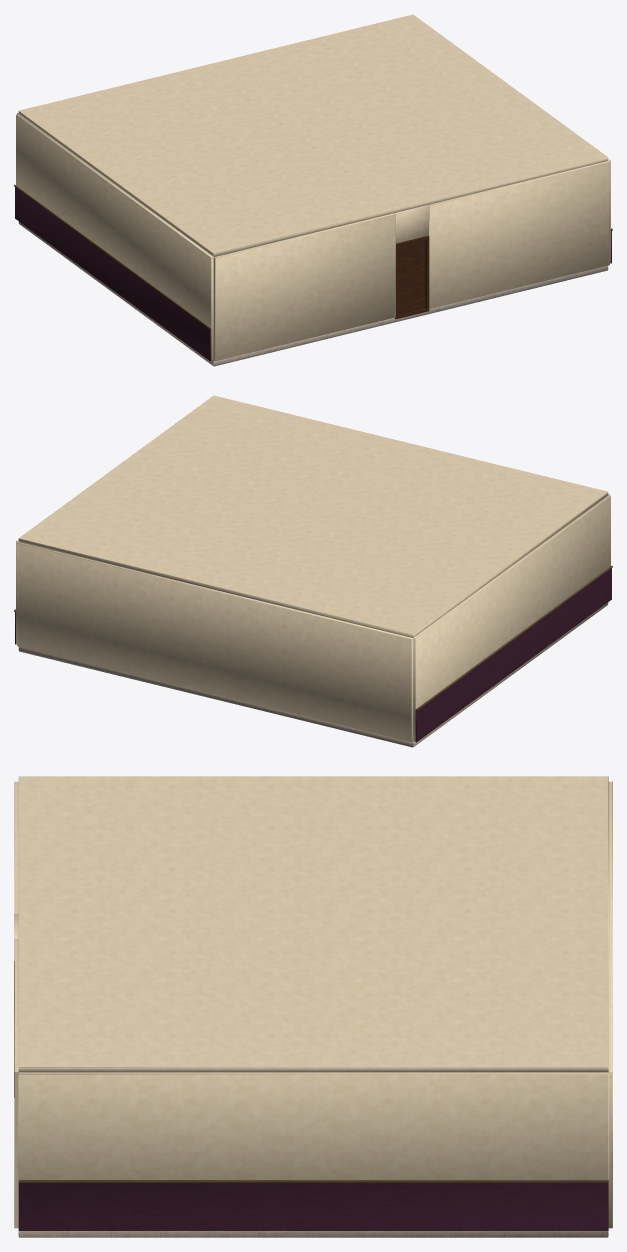
File: explore3d__maintenance_workshop.glb
3 renders of one model, top to bottom at view 1: azimuth 30°, elevation 25°; view 2: azimuth 150°, elevation 25°; view 3: azimuth 270°, elevation 25°, orthographic. The views are drawn at different scales.
Visible parts, largest first — view 1: Rebuilt_maintenance_workshop; view 2: Rebuilt_maintenance_workshop; view 3: Rebuilt_maintenance_workshop.
Boxes of the visible parts, x1=… form: Rebuilt_maintenance_workshop: x1=14, y1=14, x2=612, y2=366; Rebuilt_maintenance_workshop: x1=14, y1=395, x2=612, y2=747; Rebuilt_maintenance_workshop: x1=14, y1=776, x2=612, y2=1237.
Size of the model in its own units: 14.32 by 3.84 by 12.19.
Materials: 14 (13 with a texture image).
